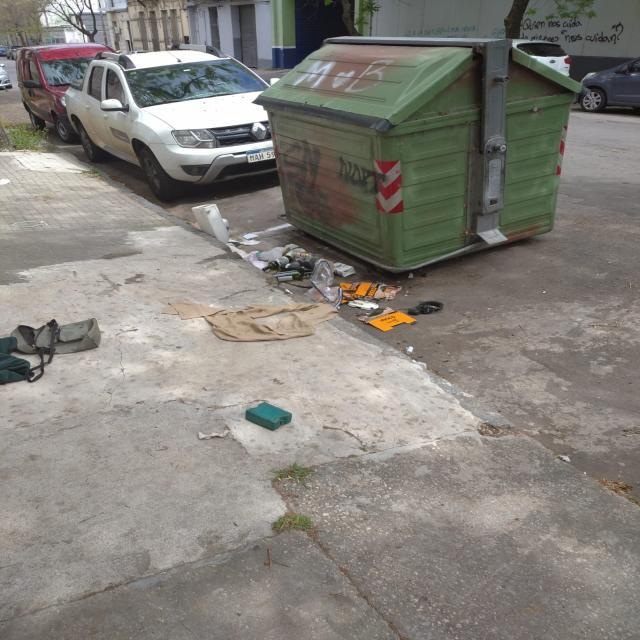garbage: (158, 195, 468, 392), (0, 261, 161, 427)
